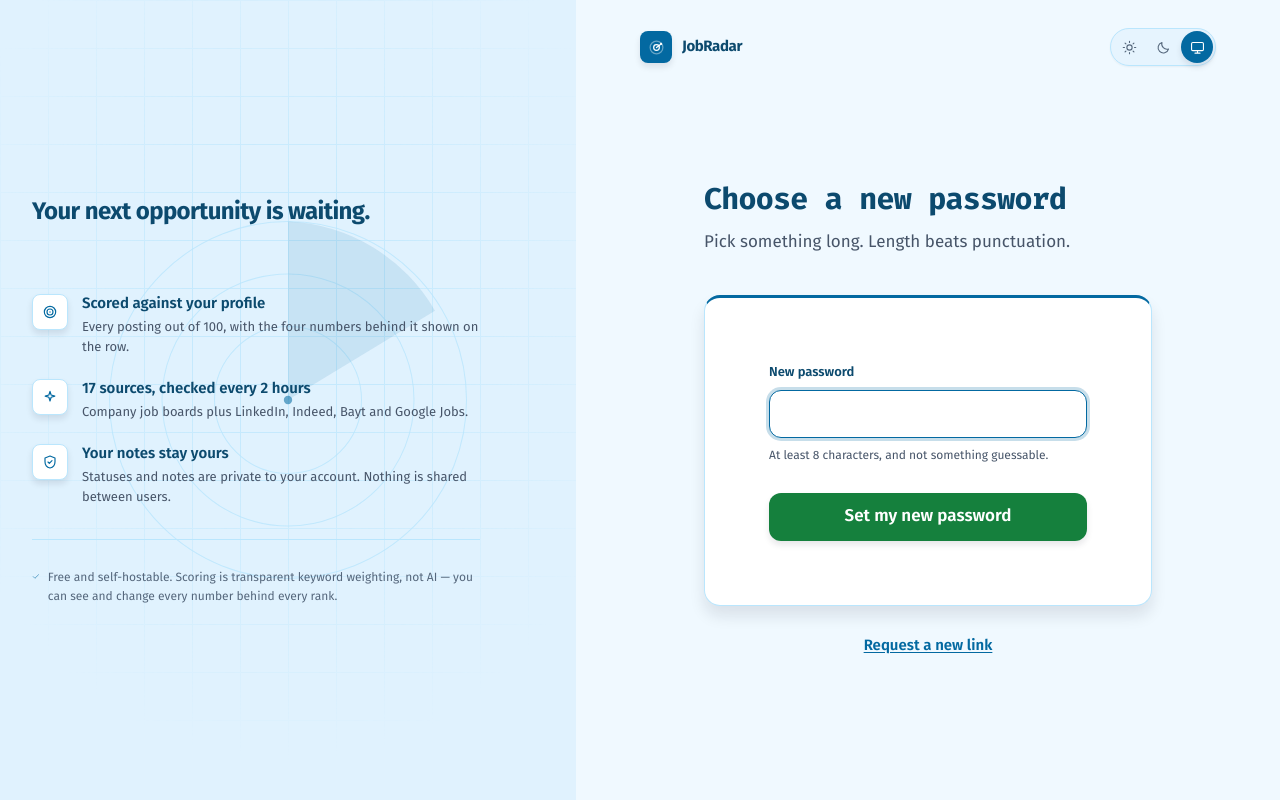
Test case: choosing a new password › explains a dead link rather than failing silently
The image size is (1280, 800).
Type "a-brand-new-passphrase" into the password field labelled "New password". click: (928, 414)
box: [769,390,1087,438]
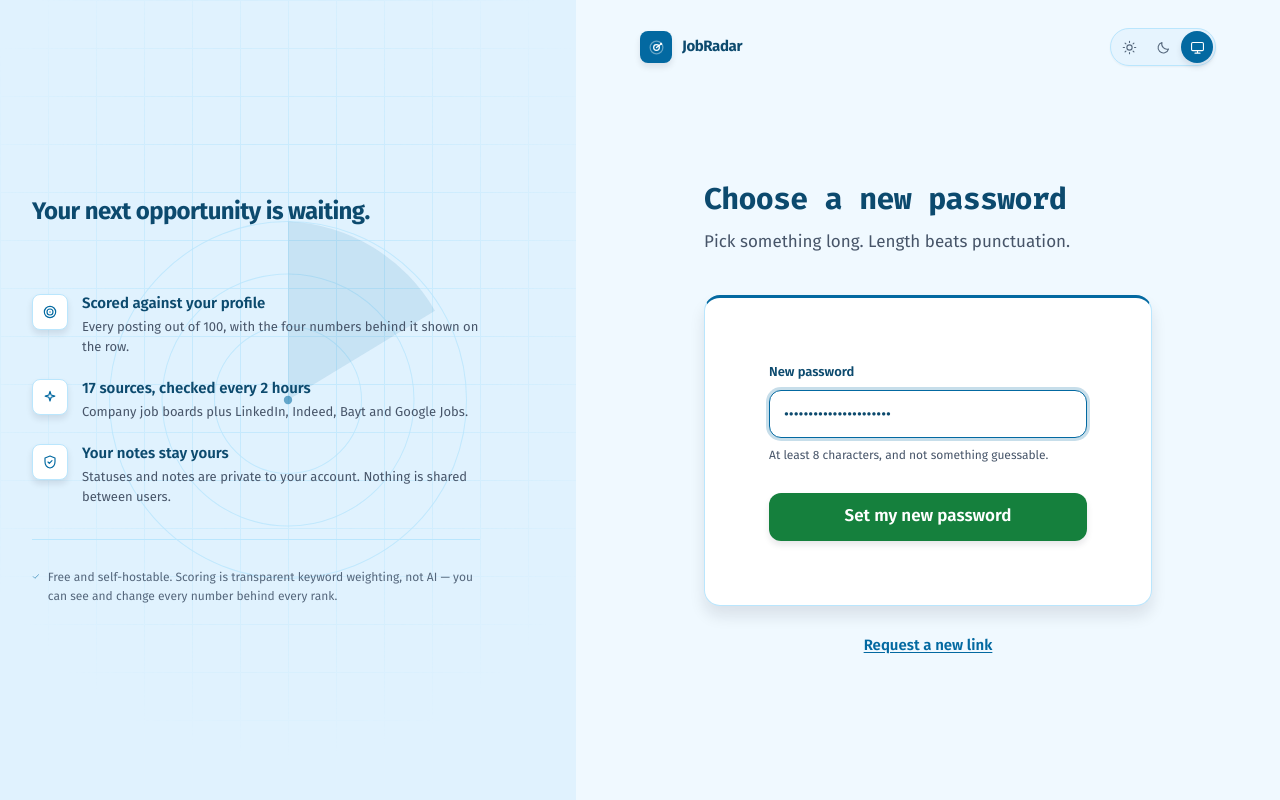
Click the button "Set my new password". click: (928, 517)
box: [769,493,1087,541]
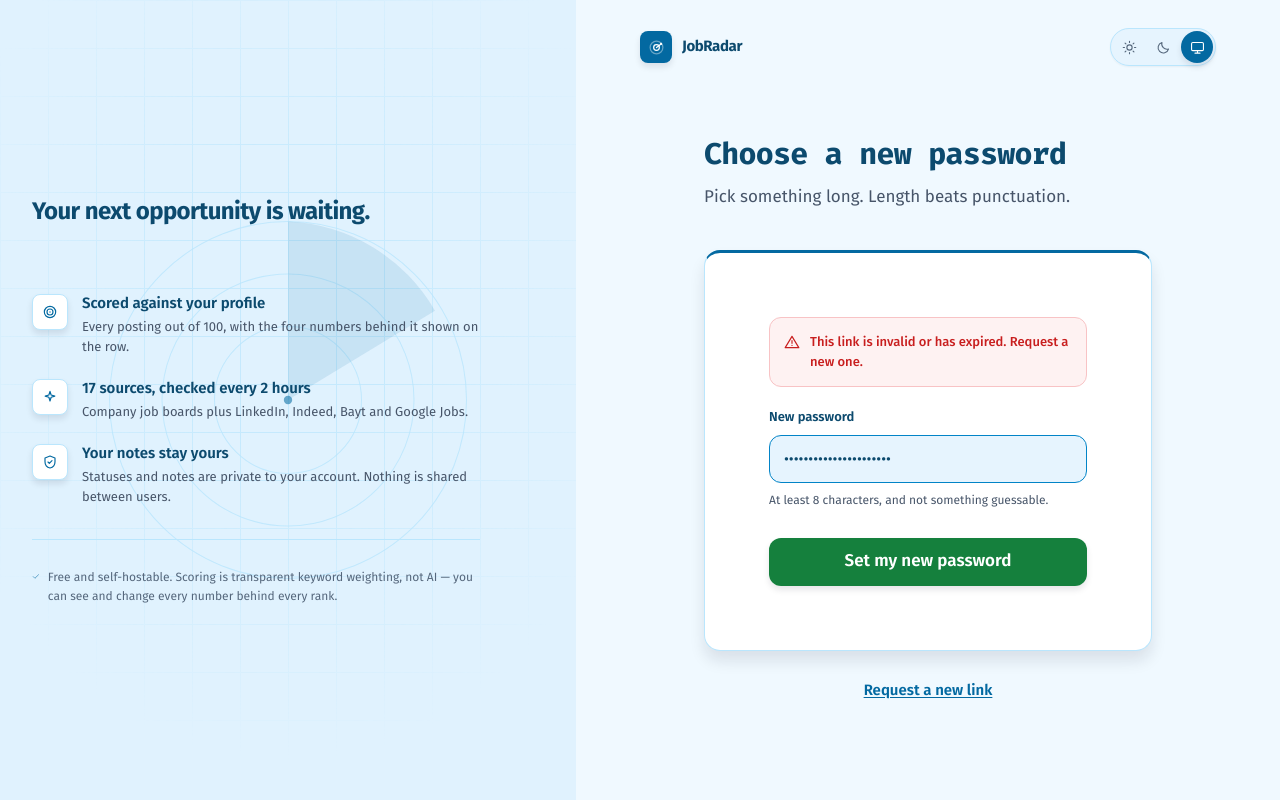
Check: the text "This link is invalid or has expired. Request a new one." is shown, box [810,334,1068,369]
